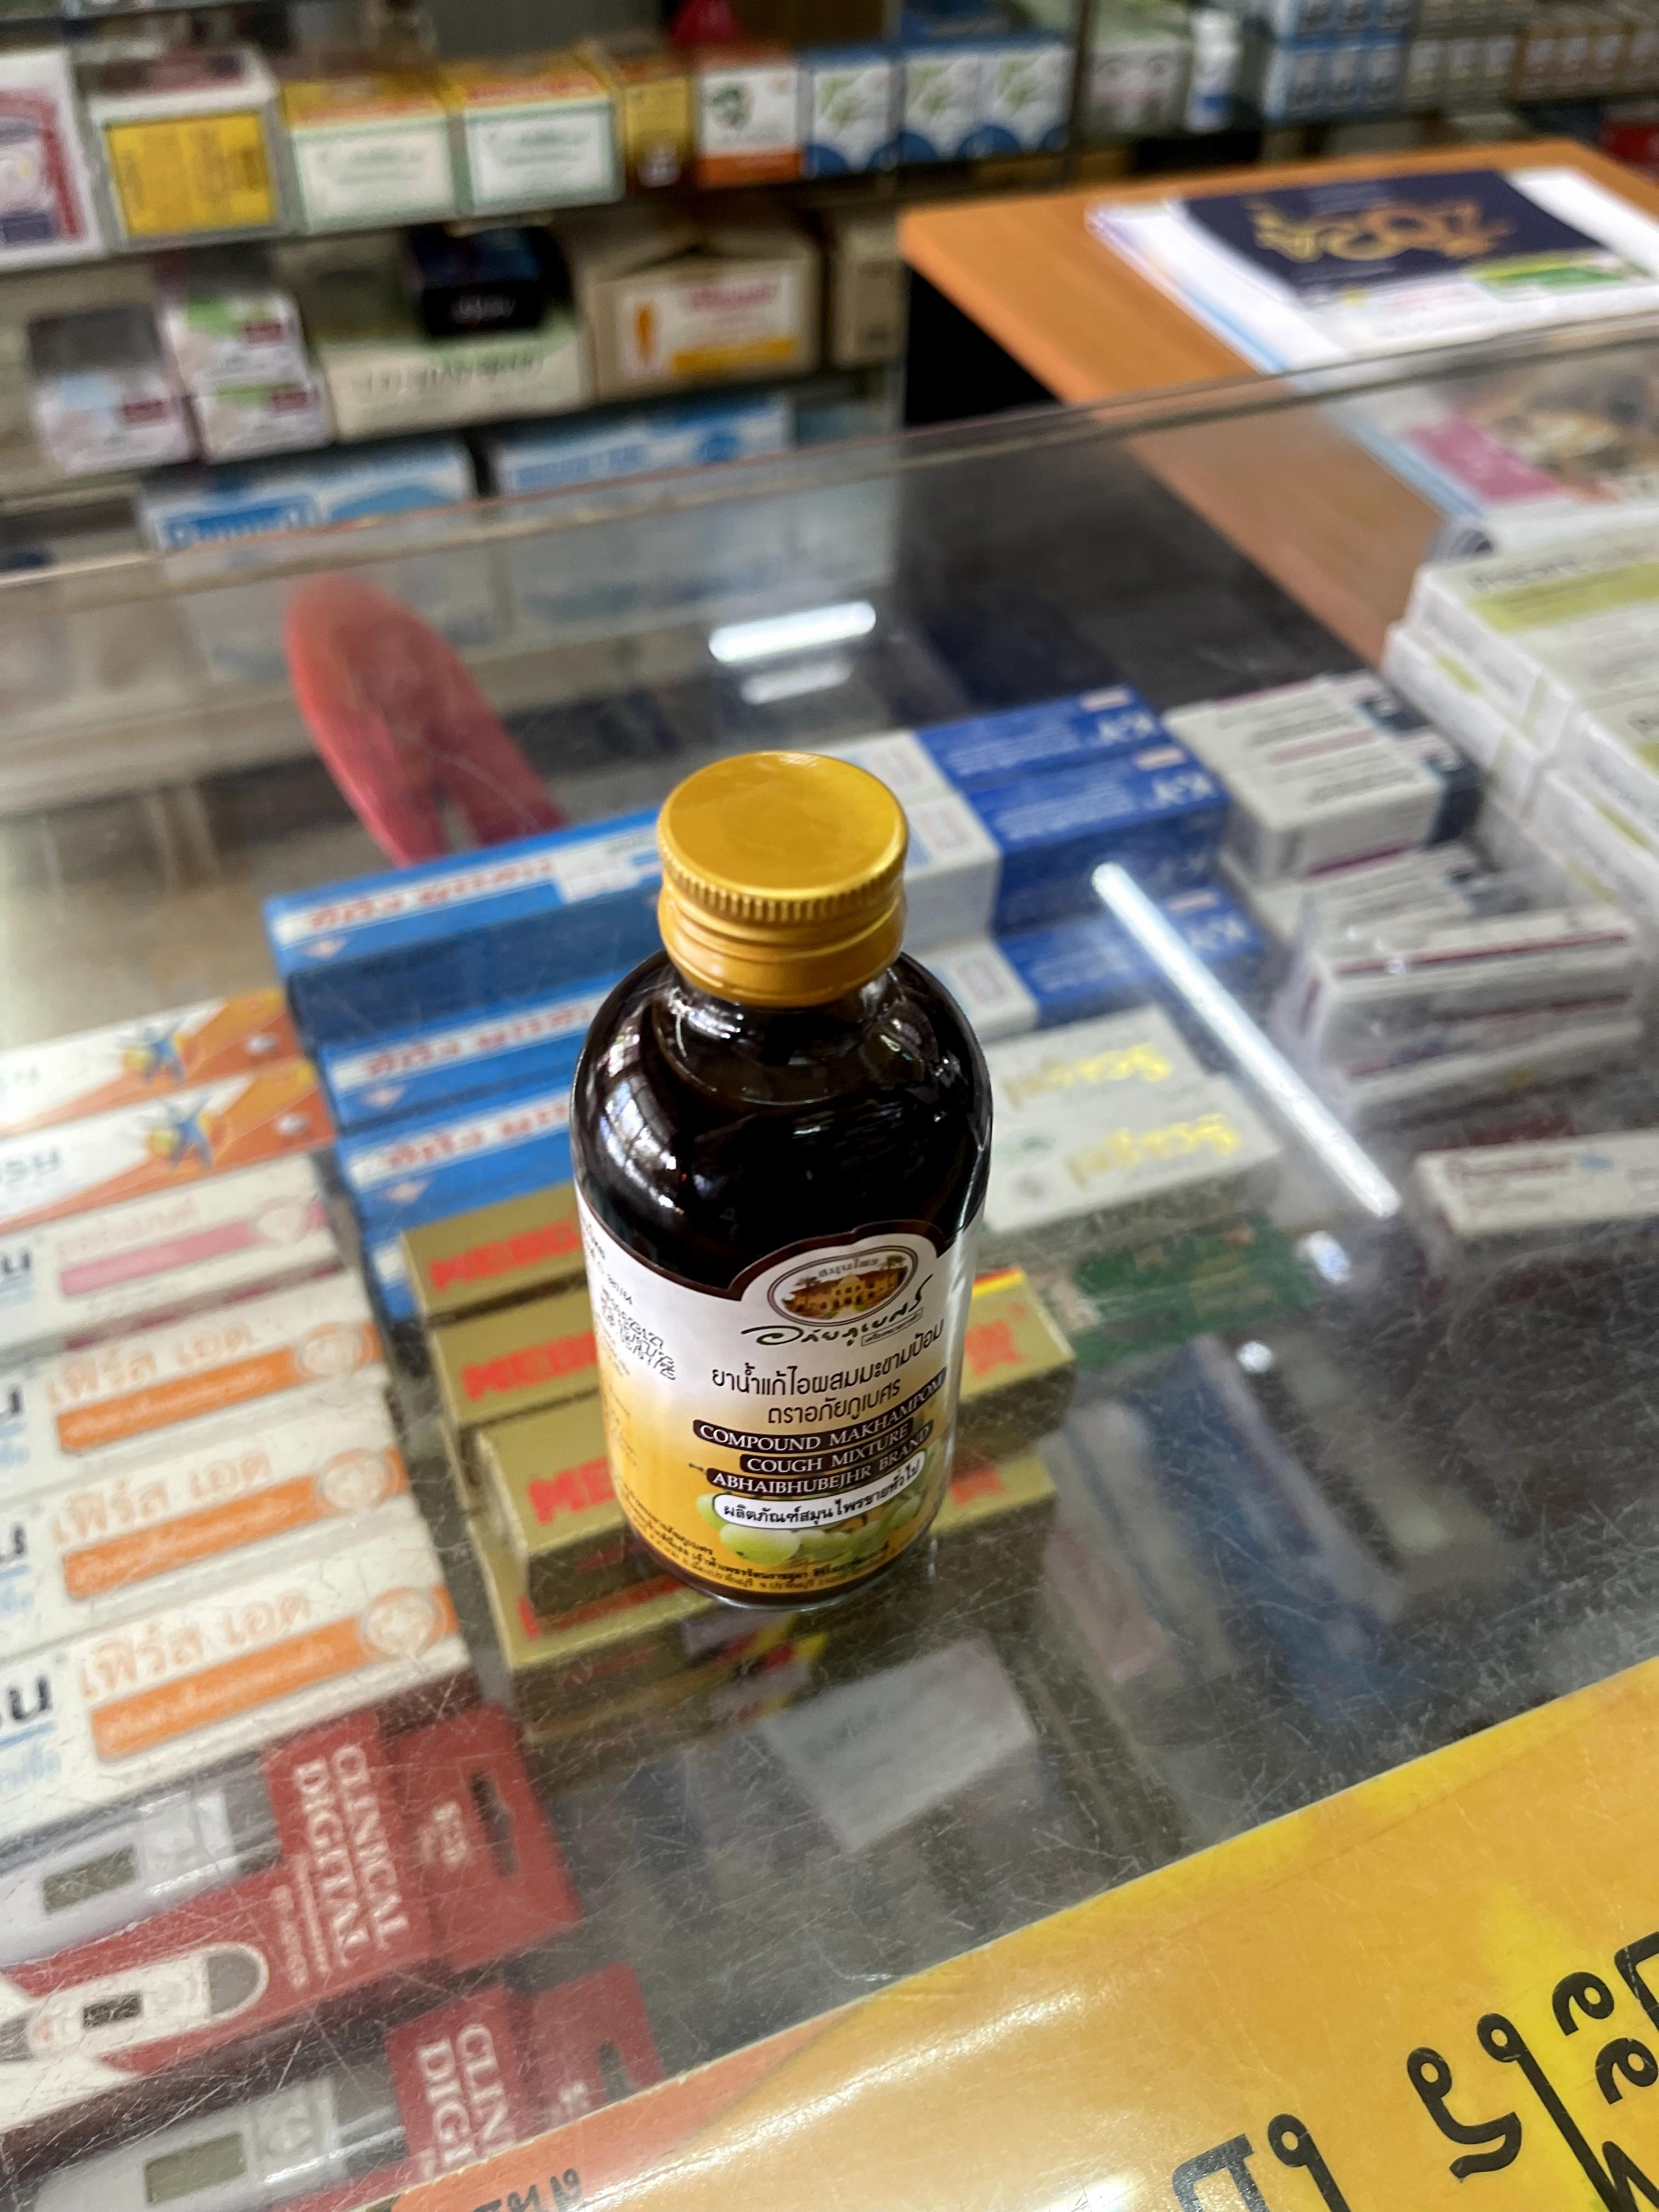Ma-Kham-Pom_Bottle: (577, 749, 990, 1606)
